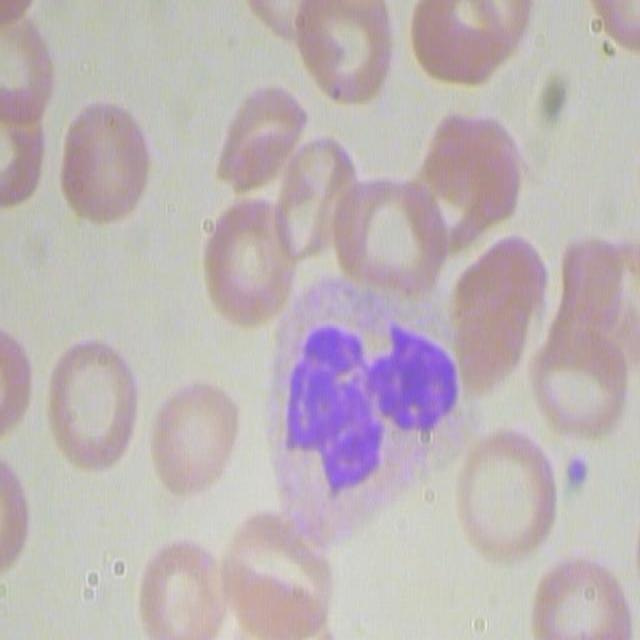RBC: (412, 95, 524, 258), (215, 496, 336, 640), (231, 92, 348, 238), (325, 177, 453, 310), (453, 228, 557, 390), (453, 428, 558, 568), (526, 308, 632, 444), (44, 332, 144, 471), (199, 200, 296, 328), (59, 99, 156, 223), (294, 1, 396, 115), (151, 379, 241, 499), (406, 0, 534, 84), (134, 534, 235, 638), (527, 555, 637, 640), (0, 456, 71, 577), (0, 0, 63, 93), (0, 88, 46, 213), (0, 318, 35, 442), (591, 0, 640, 58)
WBC: (267, 287, 475, 514)
platelets: (554, 448, 596, 503)
